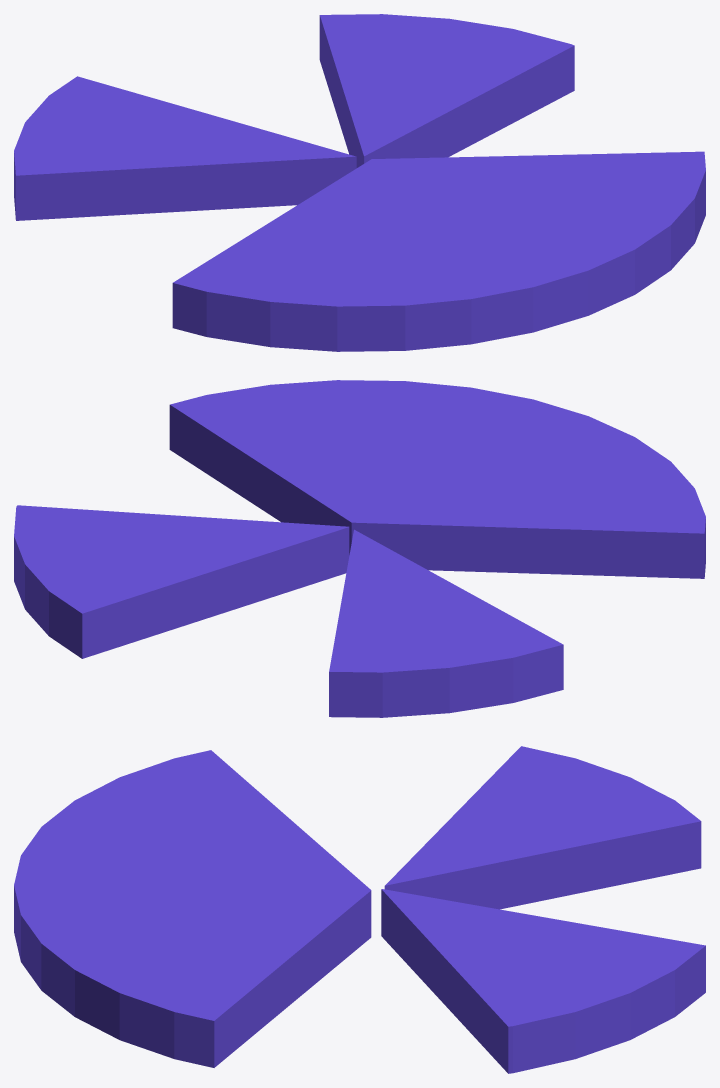
The model's file is CylinderThreeSlice.glb.
3 renders of one model, top to bottom at view 1: azimuth 30°, elevation 25°; view 2: azimuth 150°, elevation 25°; view 3: azimuth 270°, elevation 25°, orthographic. The views are drawn at different scales.
Visible parts, largest first — view 1: Cylinder; view 2: Cylinder; view 3: Cylinder.
Part boxes in pixels (left/top/right/bottom): Cylinder: left=14, top=14, right=705, bottom=351; Cylinder: left=14, top=380, right=705, bottom=717; Cylinder: left=14, top=746, right=705, bottom=1073.
Size of what is drawn, in the model's own units: 1.84 by 0.1441 by 1.92.
